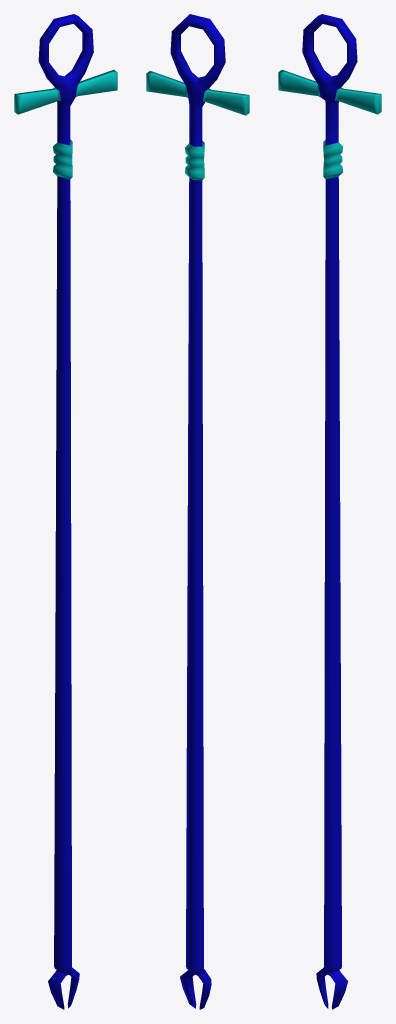
Rendered from Staff_LP.fbx.
3 views of the same model, side by side, from view 1: azimuth 30°, elevation 25°; view 2: azimuth 150°, elevation 25°; view 3: azimuth 330°, elevation 25° (orthographic).
Visible parts, largest first — view 1: Staff; view 2: Staff; view 3: Staff.
Boxes of the visible parts, <box> form: Staff: <box>14,14,117,1009</box>; Staff: <box>146,14,249,1009</box>; Staff: <box>278,14,381,1009</box>.
Bounding box in the file's own units: 17.3 × 165 × 3.96.
